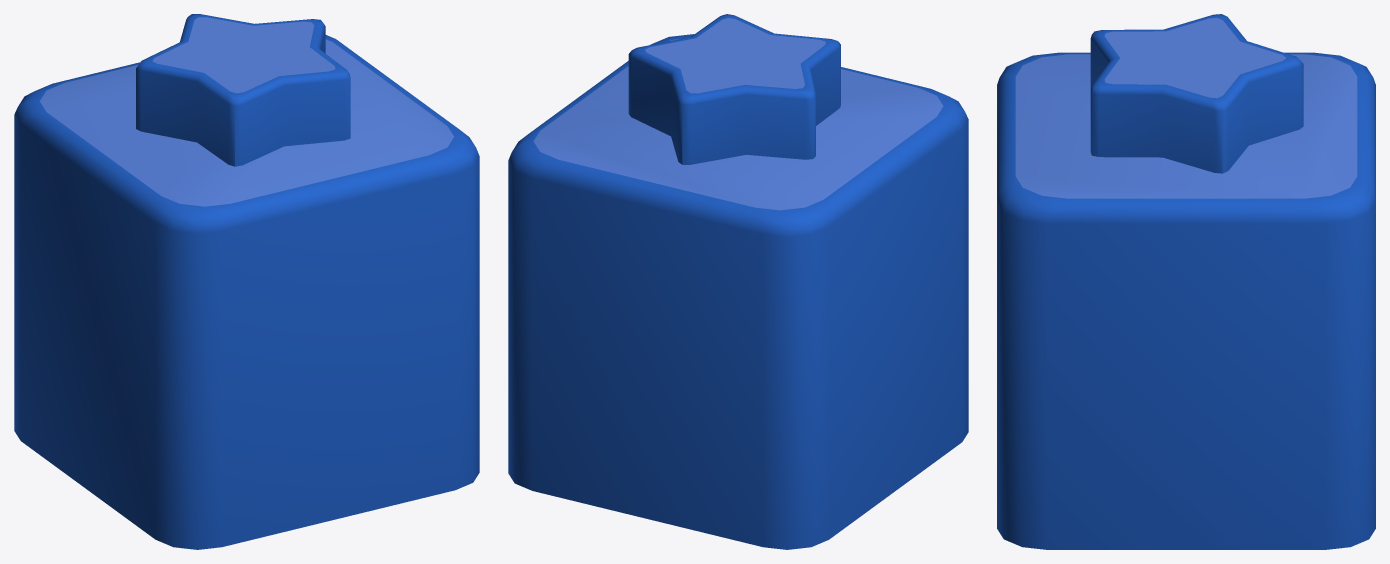
File: block_star.fbx
3 renders of one model, left to right at view 1: azimuth 30°, elevation 25°; view 2: azimuth 150°, elevation 25°; view 3: azimuth 270°, elevation 25°, orthographic. The views are drawn at different scales.
Visible parts, largest first — view 1: block_star; view 2: block_star; view 3: block_star.
Boxes of the visible parts, box(x1,y1,x2,y2) form: block_star: box(14, 14, 479, 549); block_star: box(508, 14, 968, 549); block_star: box(997, 14, 1375, 549).
Size of the model in its own units: 100 by 100 by 120.
